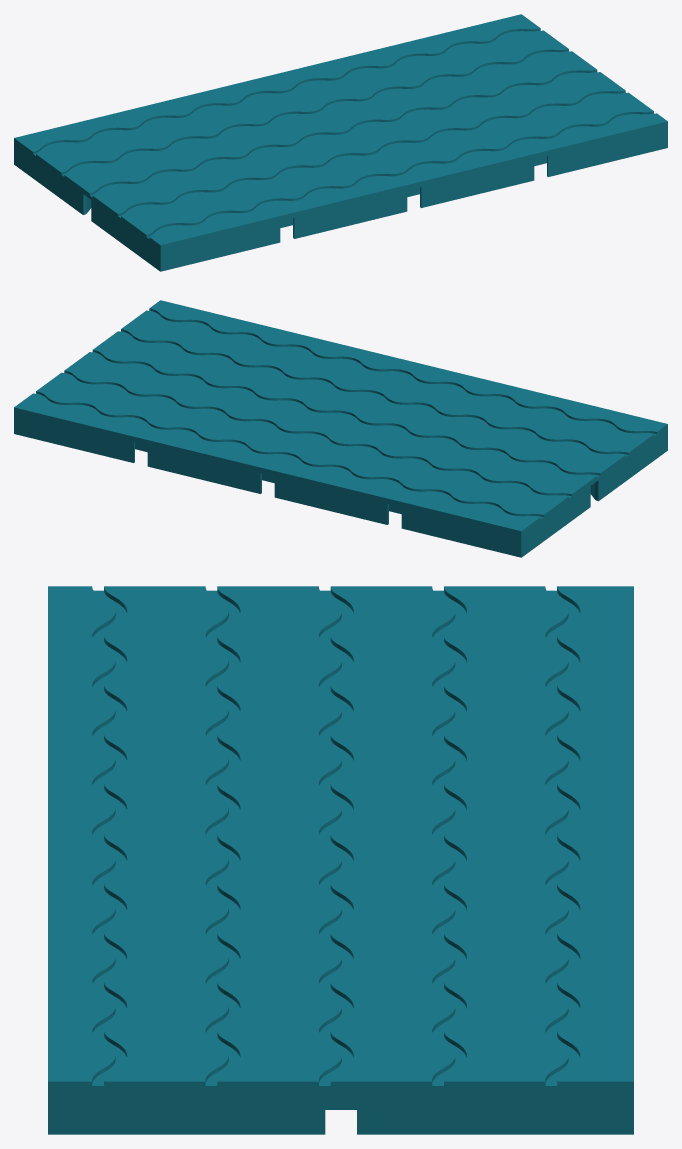
File: 5x10 Water.obj
3 renders of one model, top to bottom at view 1: azimuth 30°, elevation 25°; view 2: azimuth 150°, elevation 25°; view 3: azimuth 270°, elevation 25°, orthographic. The views are drawn at different scales.
Visible parts, largest first — view 1: Körper1; view 2: Körper1; view 3: Körper1.
Boxes of the visible parts, x1,y1,x2,y2 form: Körper1: [14, 14, 667, 271]; Körper1: [14, 300, 667, 557]; Körper1: [48, 586, 633, 1134].
Bounding box in the file's own units: 100 × 5 × 50.
